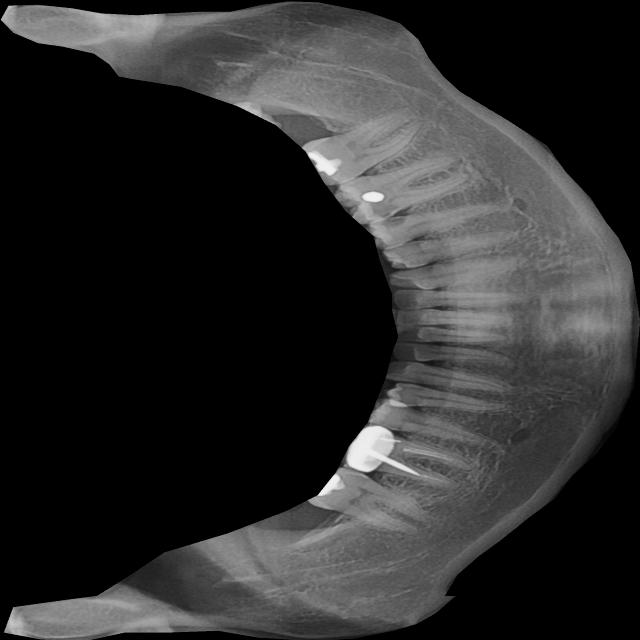mandibula: (1, 0, 640, 640)
